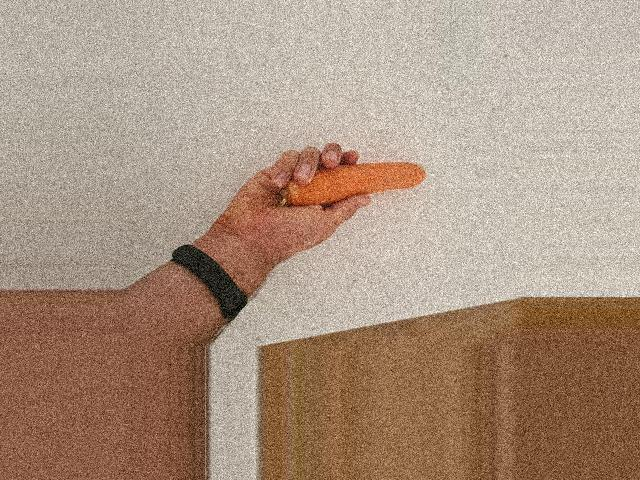carrot: (281, 159, 425, 210)
